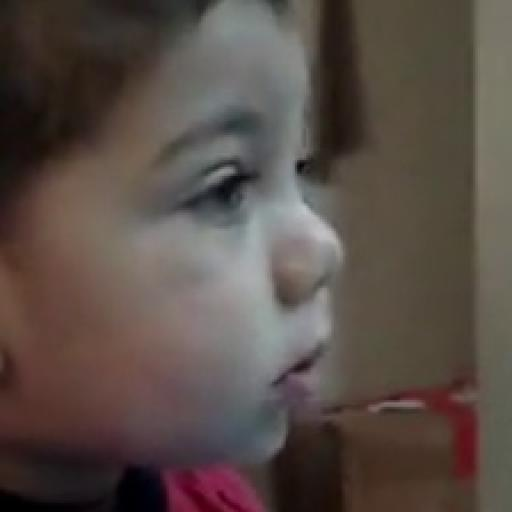Autism: (8, 2, 402, 443)
